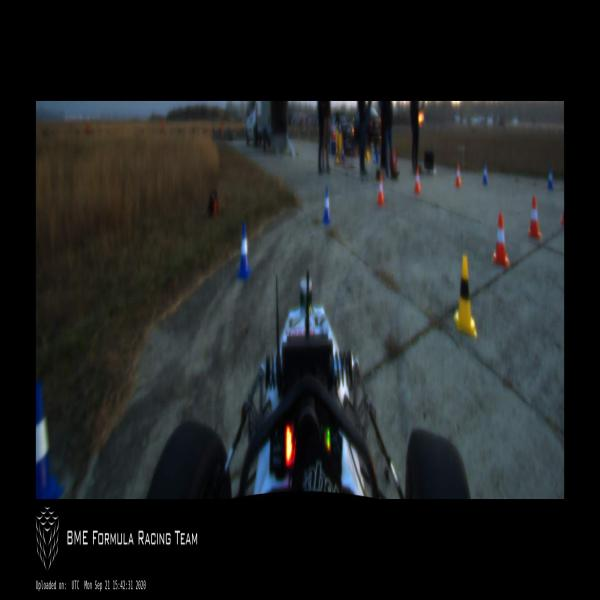blue_cone: (36, 381, 65, 498), (236, 224, 251, 280), (322, 188, 331, 222), (482, 163, 488, 186), (547, 168, 553, 190), (373, 152, 378, 165), (342, 147, 344, 156)
orange_cone: (493, 212, 509, 268), (528, 197, 541, 237), (377, 174, 384, 205), (414, 168, 420, 194), (455, 163, 461, 186)
yellow_cone: (454, 254, 476, 334), (336, 150, 339, 164), (336, 123, 338, 134)
